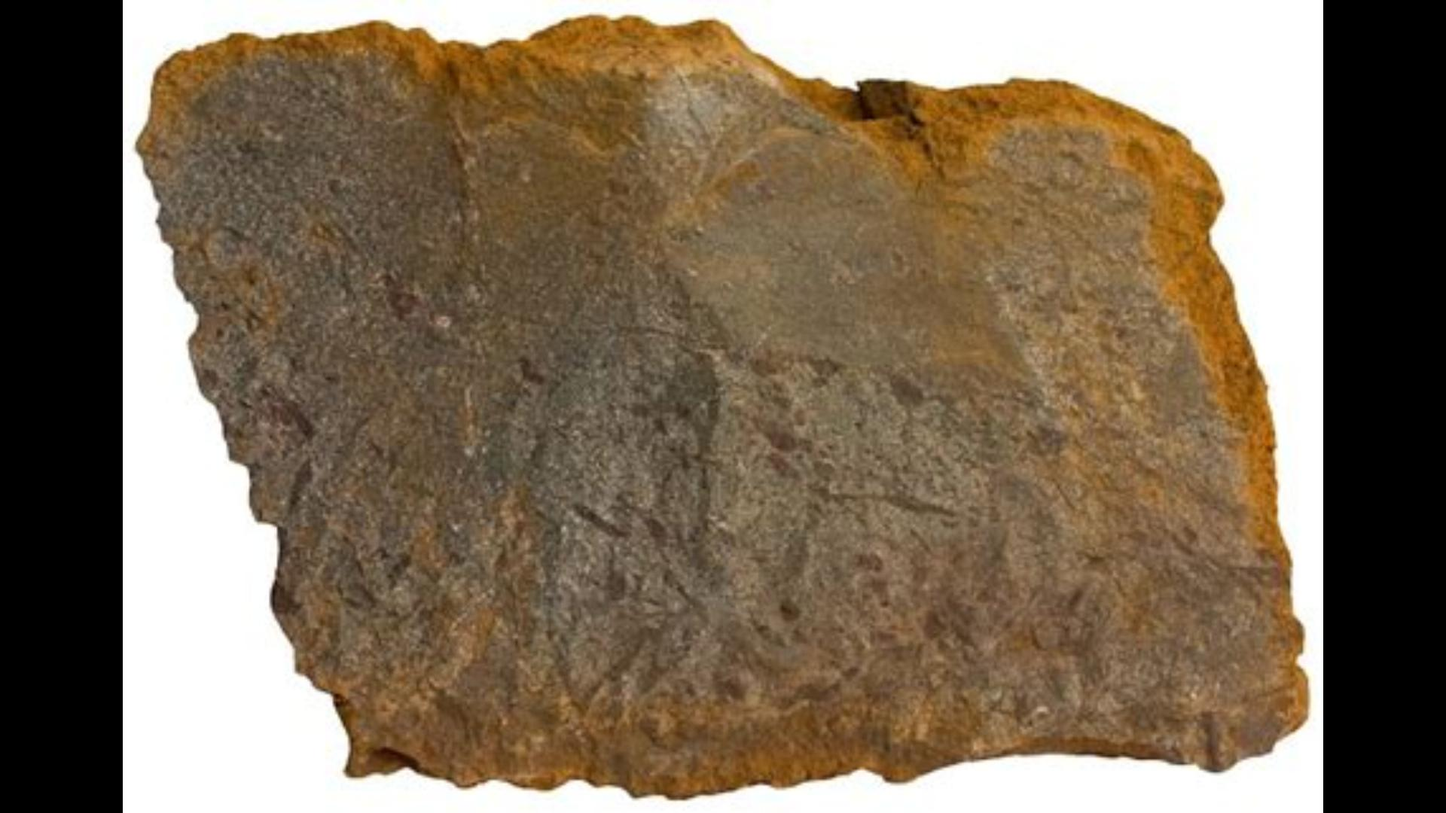rock: (138, 23, 1301, 793)
